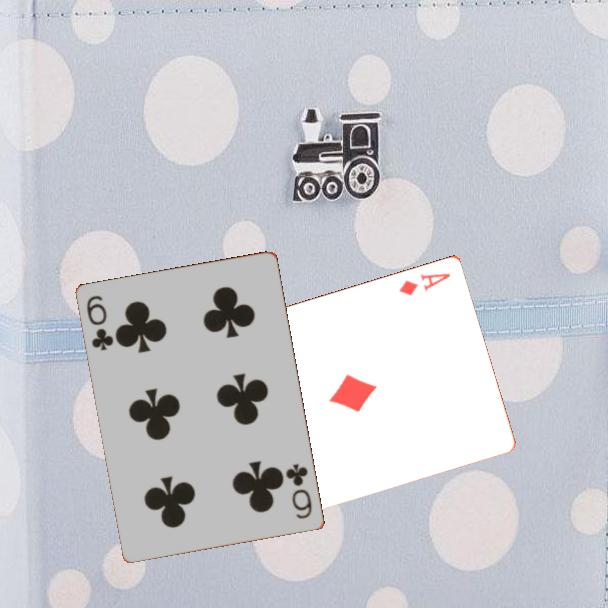c06: (83, 292, 116, 354), (283, 460, 315, 522)
d01: (395, 269, 453, 298)
